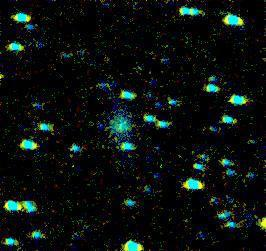star: (247, 207, 266, 237)
